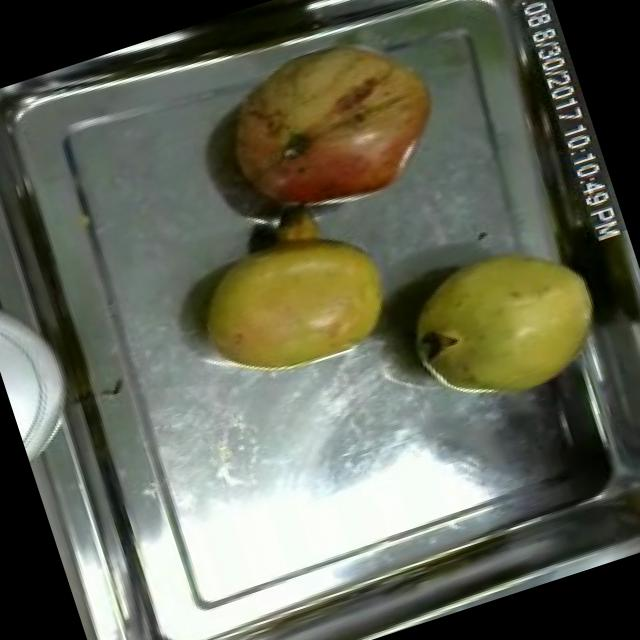fruit: (196, 11, 469, 240), (383, 218, 622, 428), (174, 199, 416, 405), (0, 194, 17, 335)
